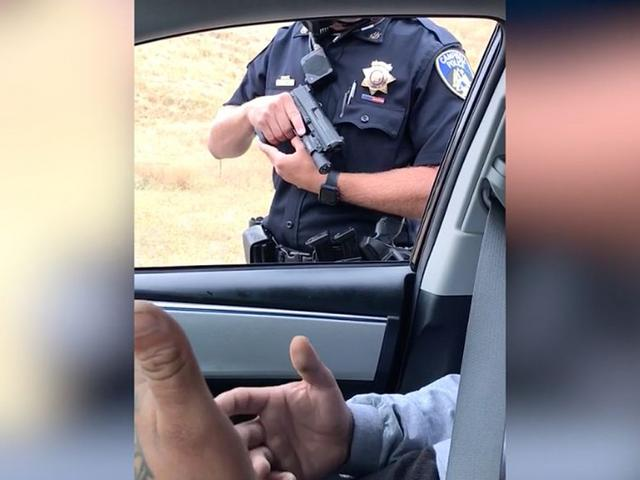pistol: (255, 82, 345, 174)
